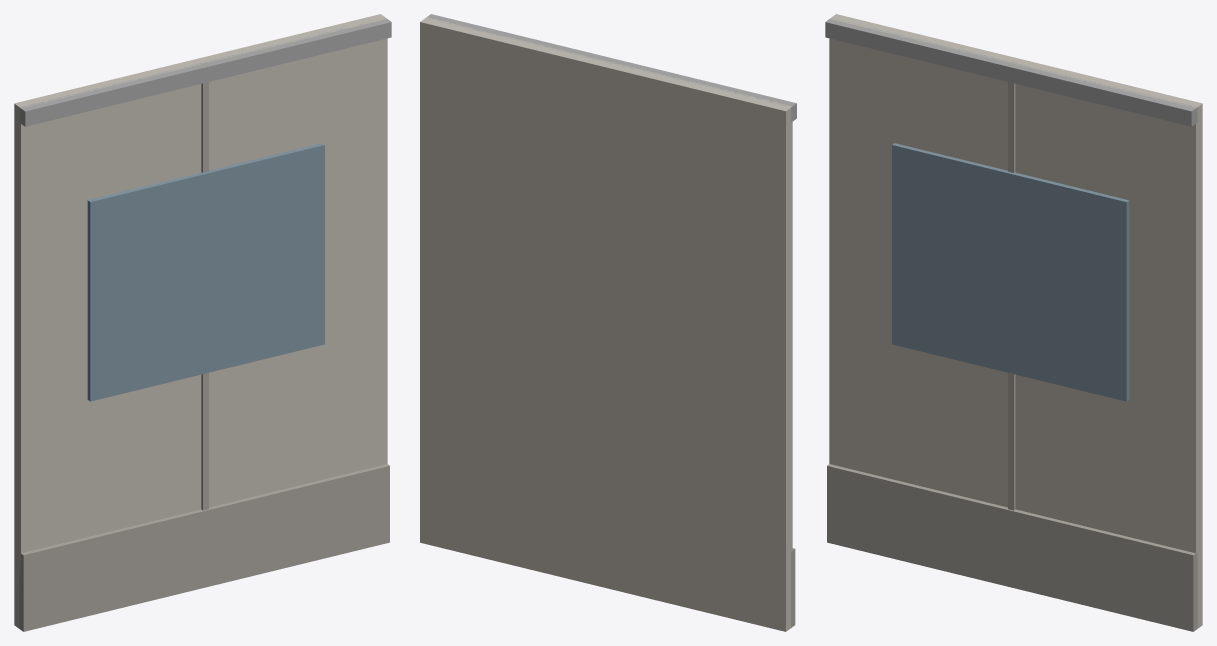
The model's file is tent_wall_window.obj.
3 renders of one model, left to right at view 1: azimuth 30°, elevation 25°; view 2: azimuth 150°, elevation 25°; view 3: azimuth 330°, elevation 25°, orthographic.
Bounding box in the file's own units: 2.5 × 3.4 × 0.13.
